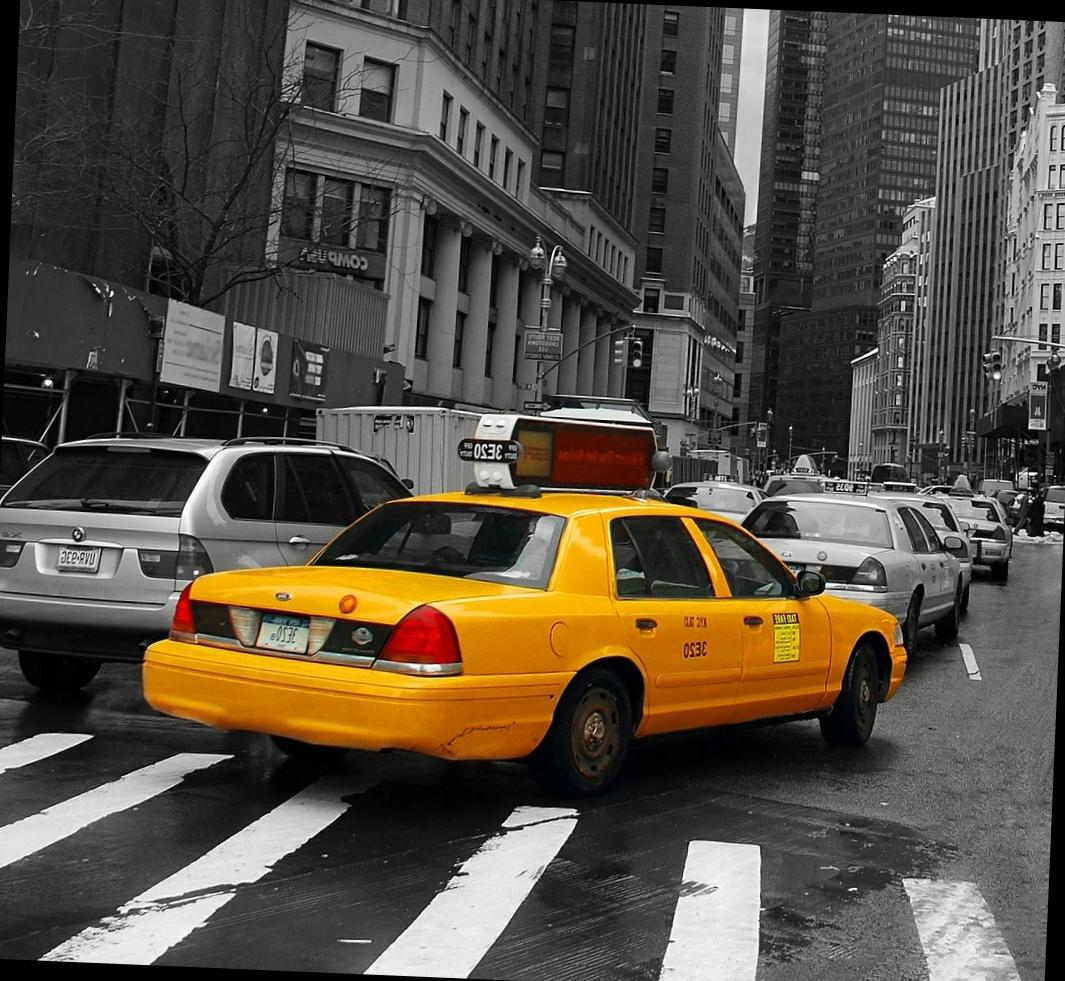taxi: (111, 522, 942, 794)
